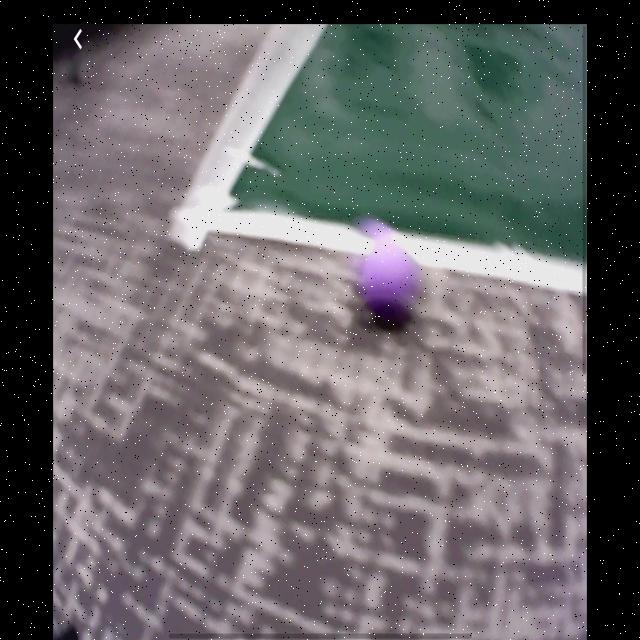ball: (357, 231, 423, 332)
